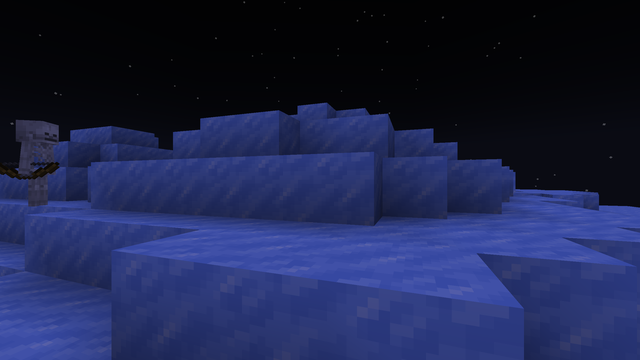squelettes: (13, 119, 61, 207)
